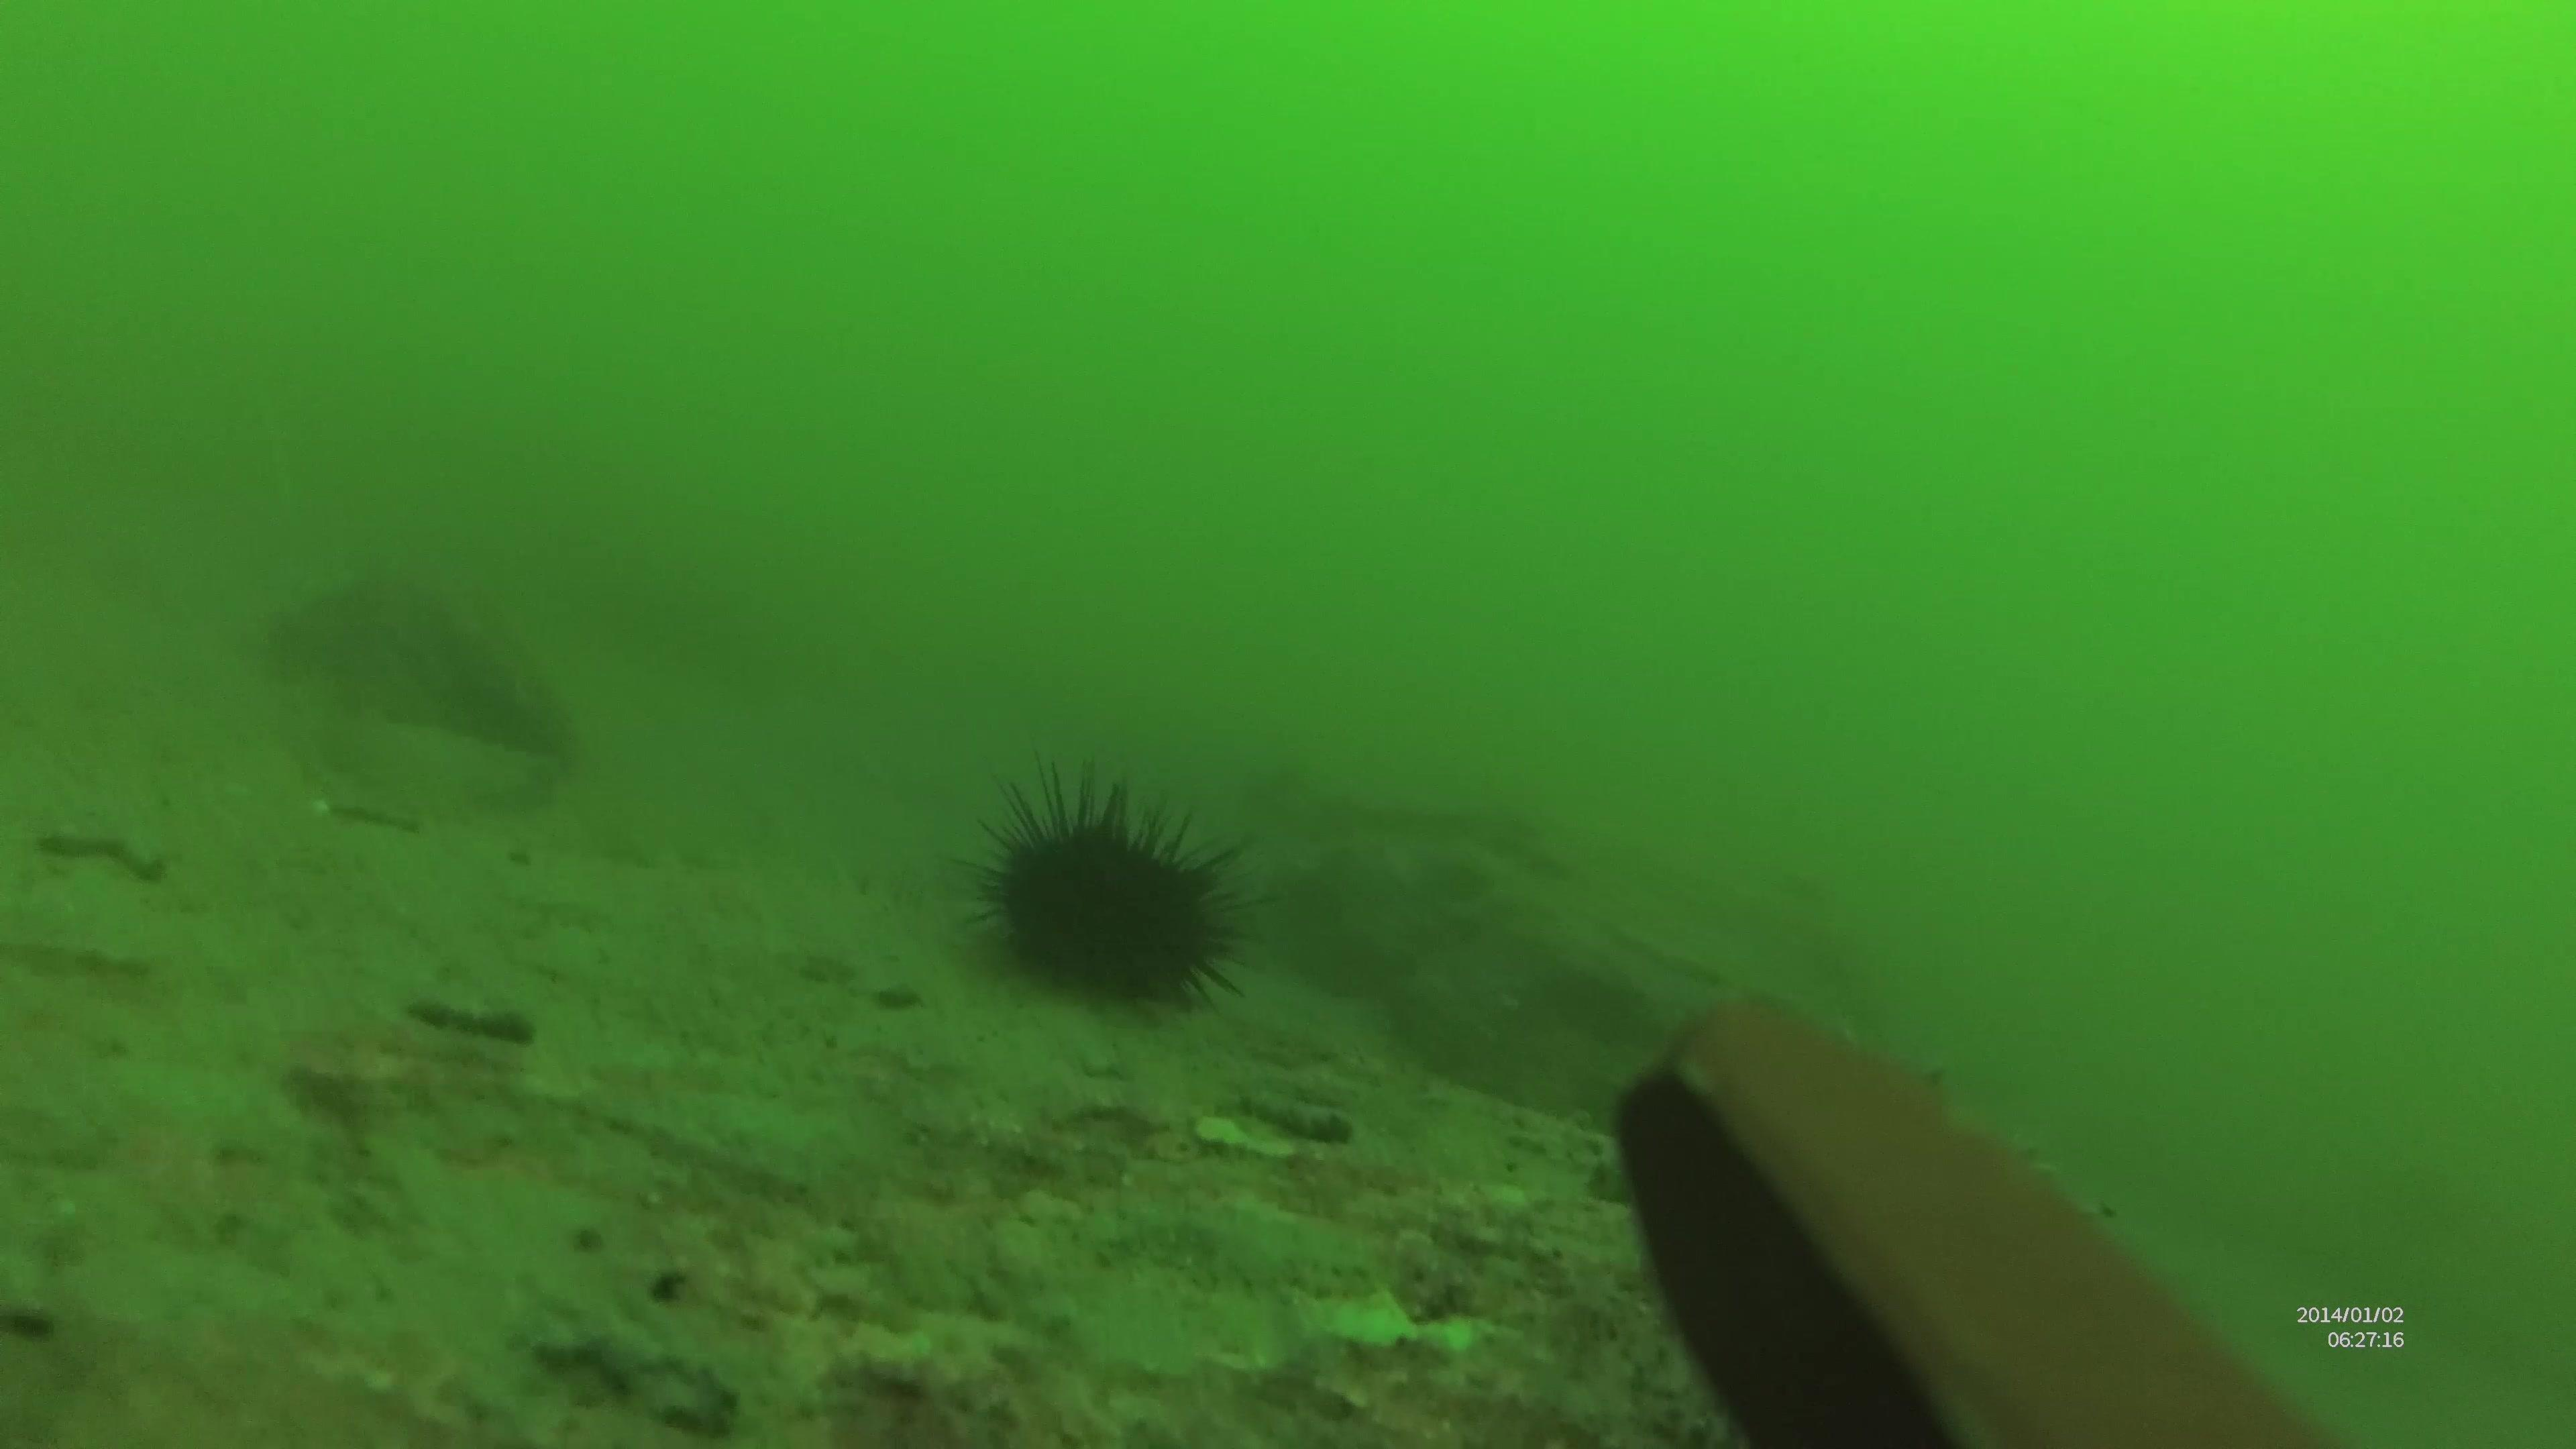echinus: (968, 757, 1274, 1019)
